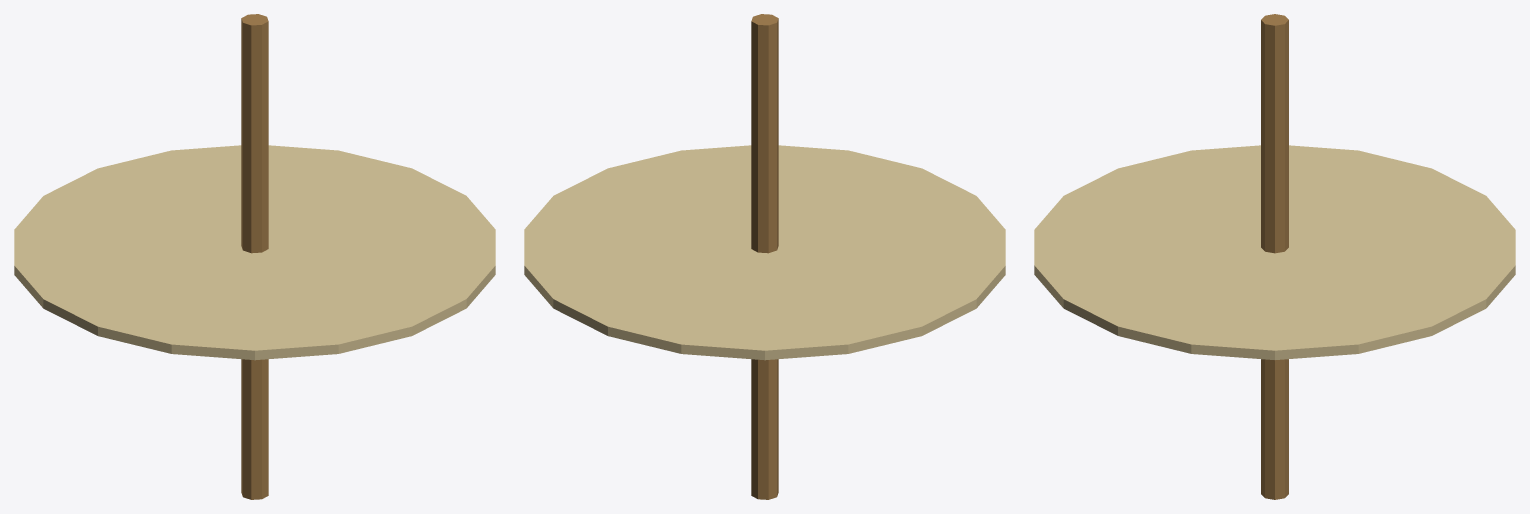
The model's file is quat_nan_la_dua.obj.
3 views of the same model, side by side, from view 1: azimuth 30°, elevation 25°; view 2: azimuth 150°, elevation 25°; view 3: azimuth 270°, elevation 25° (orthographic).
Bounding box in the file's own units: 0.28 × 0.3 × 0.2758.
